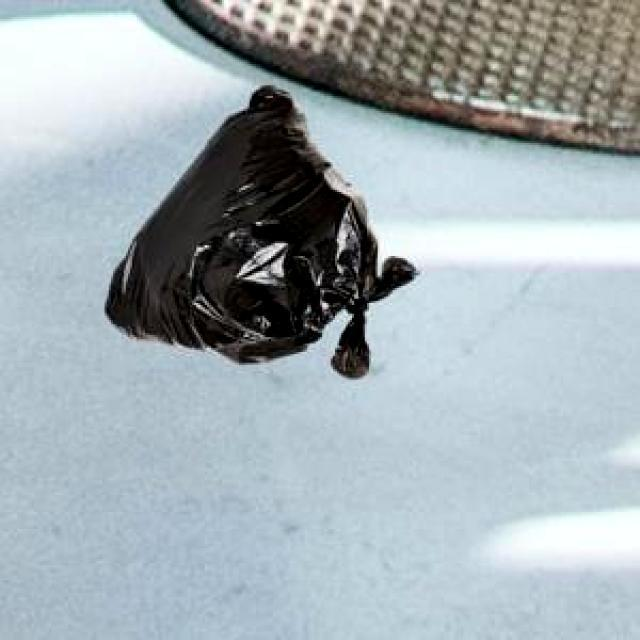Bolsa-de-nilon: (104, 87, 419, 381)
